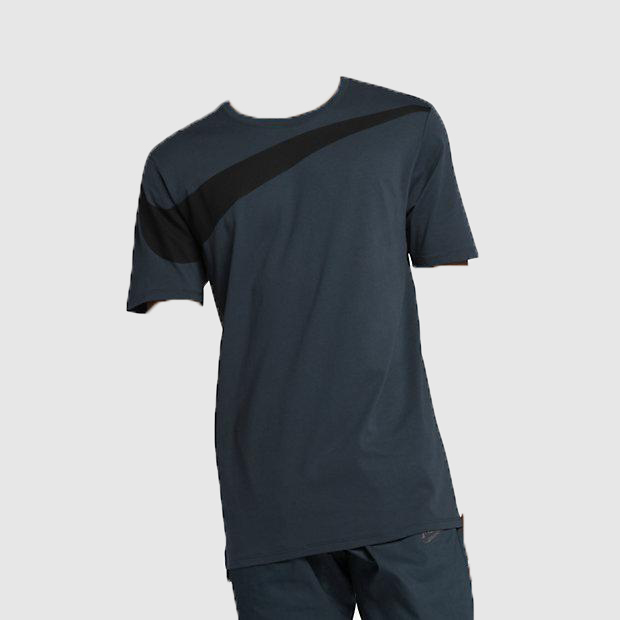teeshirt: (117, 72, 533, 572)
